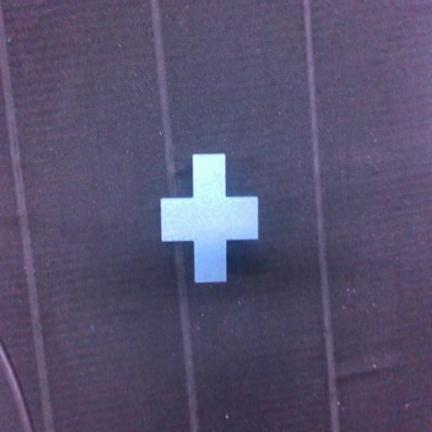cross: (162, 155, 258, 282)
